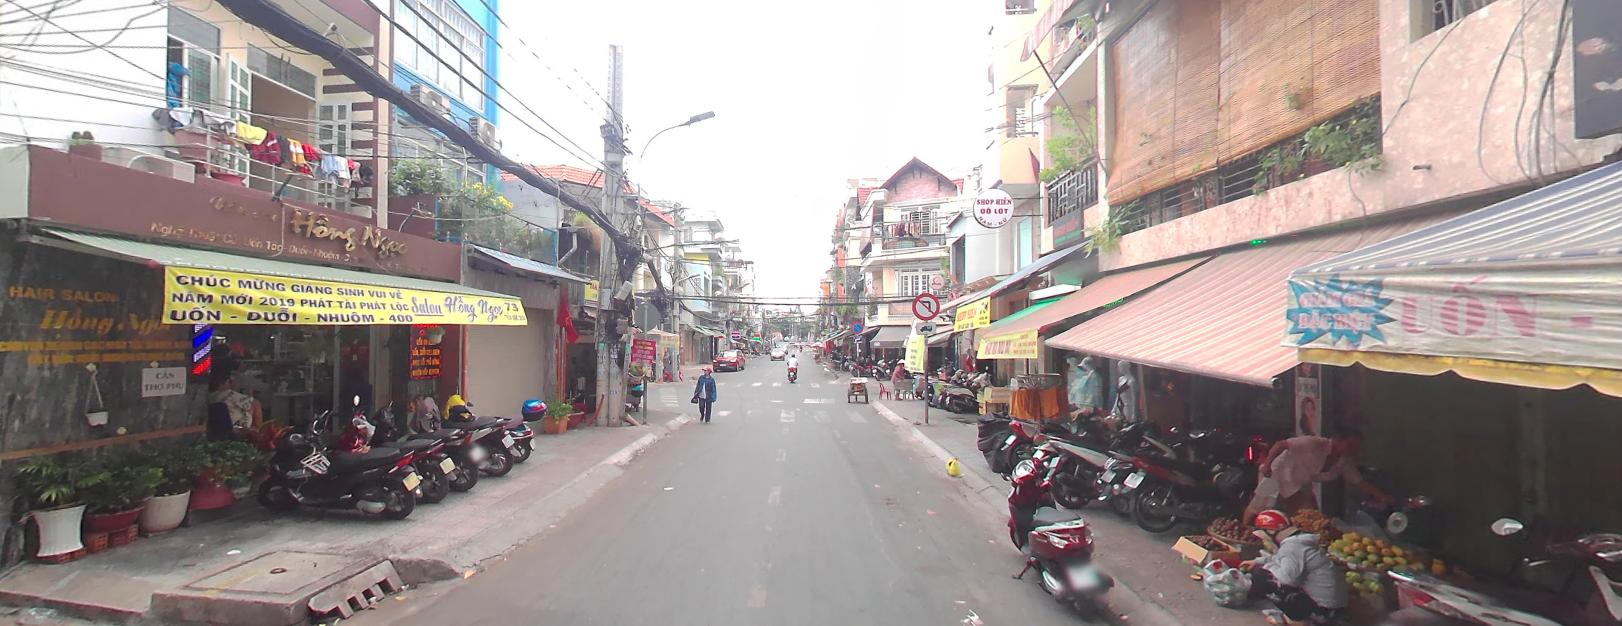Cam dung va do: (850, 319, 863, 332)
Cam re: (912, 289, 940, 318)
